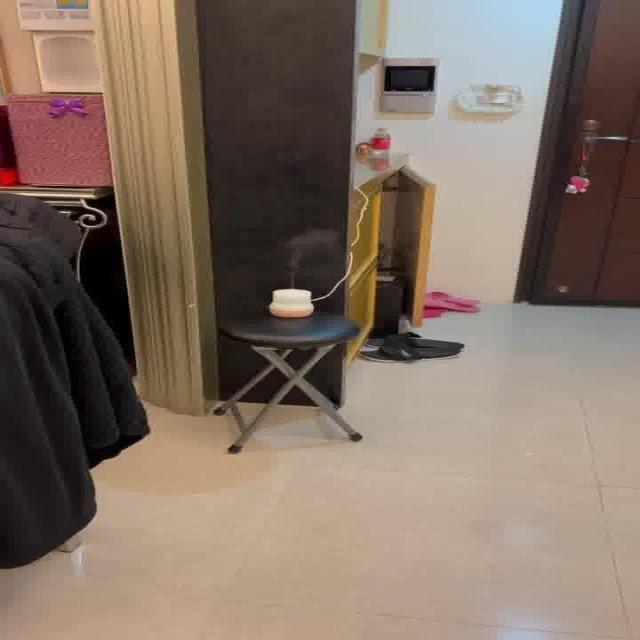fire: (276, 226, 337, 281)
